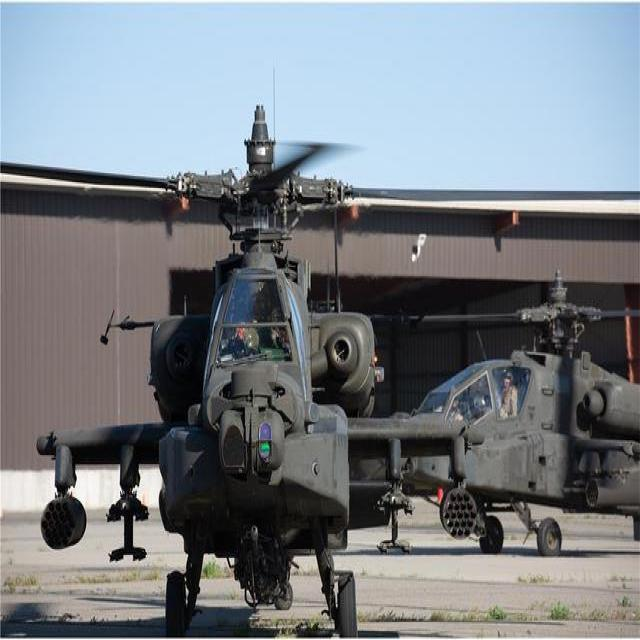MIL_HELO: (2, 102, 474, 635), (379, 285, 640, 554)
